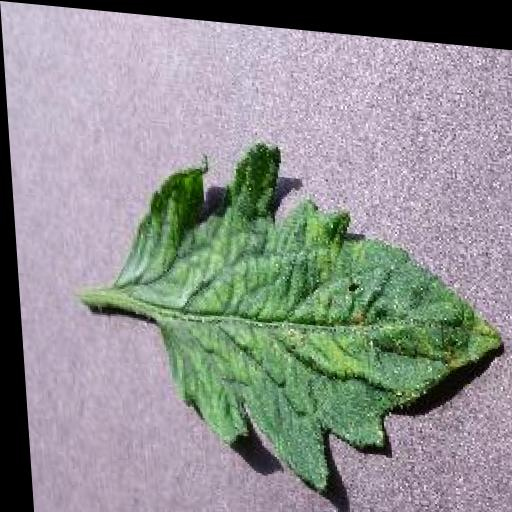Mosaic Virus: (104, 124, 512, 499)
